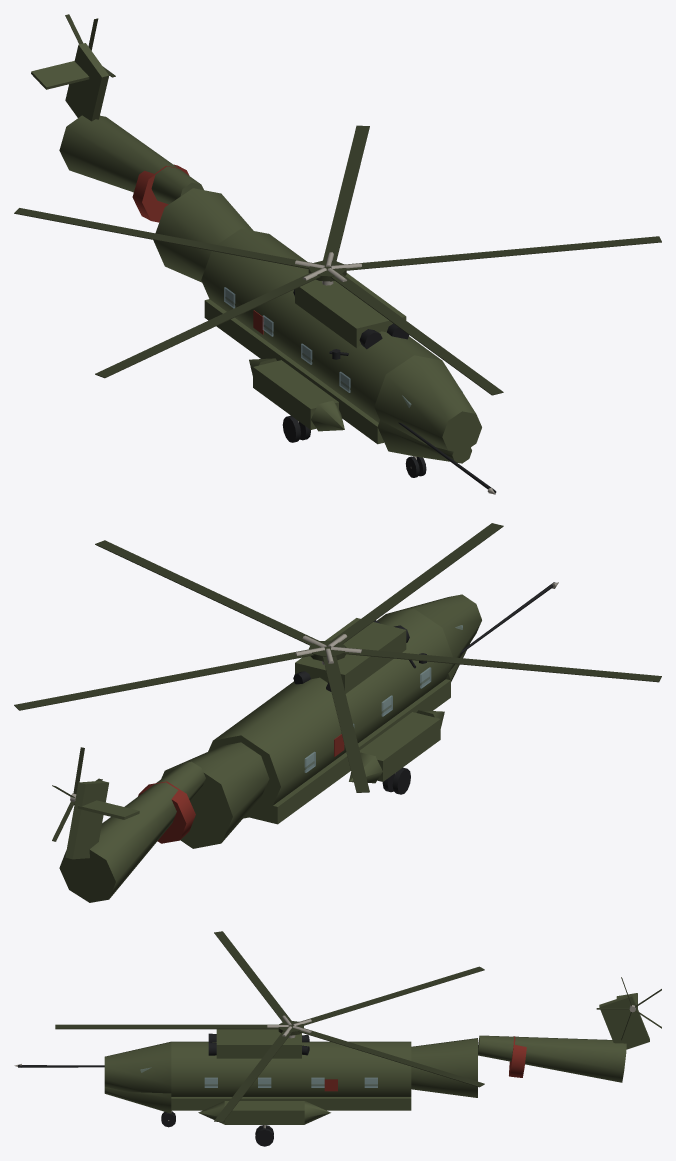
File: hh-3e-jolly-green.glb
3 views of the same model, one above another, from view 1: azimuth 30°, elevation 25°; view 2: azimuth 150°, elevation 25°; view 3: azimuth 270°, elevation 25° (orthographic). The views are drawn at different scales.
Visible parts, largest first — view 1: Mesh_Cabin, Mesh_NoseTaper, Mesh_TailBoom, Mesh_RearTransition, Mesh_EnginePod, Mesh_HullBottom, Mesh_SponsonR_Body, Mesh_BladeMesh_1, Mesh_BladeMesh_3, Mesh_BladeMesh_4, Mesh_TailFin, Mesh_BladeMesh_0 (+5 smaller); view 2: Mesh_Cabin, Mesh_TailBoom, Mesh_RearTransition, Mesh_EnginePod, Mesh_HullBottom, Mesh_SponsonR_Body, Mesh_NoseTaper, Mesh_BladeMesh_4, Mesh_BladeMesh_2, Mesh_TailFin, Mesh_BladeMesh_1, Mesh_BladeMesh_0 (+3 smaller); view 3: Mesh_Cabin, Mesh_TailBoom, Mesh_RearTransition, Mesh_NoseTaper, Mesh_HullBottom, Mesh_EnginePod, Mesh_SponsonL_Body, Mesh_TailFin, Mesh_BladeMesh_0, Mesh_BladeMesh_2, Mesh_BladeMesh_3, Mesh_BladeMesh_1 (+4 smaller).
Boxes of the visible parts, x1,y1,x2,y2 form: Mesh_Cabin: (201,228,441,422); Mesh_NoseTaper: (374,355,481,452); Mesh_TailBoom: (59,115,203,204); Mesh_RearTransition: (153,188,253,282); Mesh_EnginePod: (295,273,406,347); Mesh_HullBottom: (204,299,384,444); Mesh_SponsonR_Body: (253,360,338,429); Mesh_BladeMesh_1: (344,236,661,270); Mesh_BladeMesh_3: (14,208,312,268); Mesh_BladeMesh_4: (95,272,320,378); Mesh_TailFin: (65,43,109,121); Mesh_BladeMesh_0: (330,274,503,395); Mesh_Cabin: (208,608,452,818); Mesh_TailBoom: (59,761,205,902); Mesh_RearTransition: (161,742,269,848); Mesh_EnginePod: (295,618,406,693); Mesh_HullBottom: (245,679,450,824); Mesh_SponsonR_Body: (359,712,440,781); Mesh_NoseTaper: (388,594,481,672); Mesh_BladeMesh_4: (343,648,661,682); Mesh_BladeMesh_2: (14,649,313,710); Mesh_TailFin: (65,780,108,859); Mesh_BladeMesh_1: (95,540,319,645); Mesh_BladeMesh_0: (332,523,503,643); Mesh_Cabin: (171,1041,411,1096); Mesh_TailBoom: (478,1035,626,1082); Mesh_RearTransition: (411,1038,477,1097); Mesh_NoseTaper: (104,1041,171,1093); Mesh_HullBottom: (171,1097,411,1110); Mesh_EnginePod: (216,1029,301,1058); Mesh_SponsonL_Body: (224,1101,304,1124); Mesh_TailFin: (599,994,649,1049); Mesh_BladeMesh_0: (55,1024,278,1029); Mesh_BladeMesh_2: (298,1028,484,1087); Mesh_BladeMesh_3: (299,966,484,1025); Mesh_BladeMesh_1: (214,1031,291,1122).
Bounding box in the file's own units: 16.94 × 6.29 × 24.3.
Materials: 2 (2 with a texture image).
